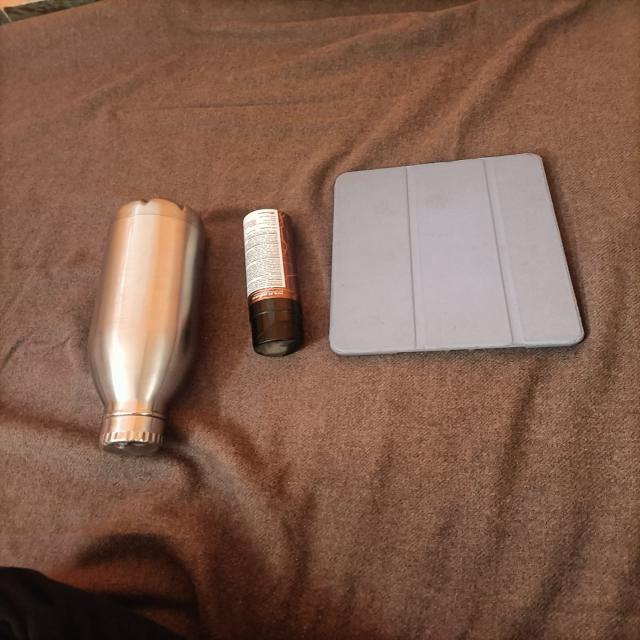bottle: (71, 205, 220, 468)
spray: (240, 201, 321, 373)
tablet: (326, 132, 597, 375)
